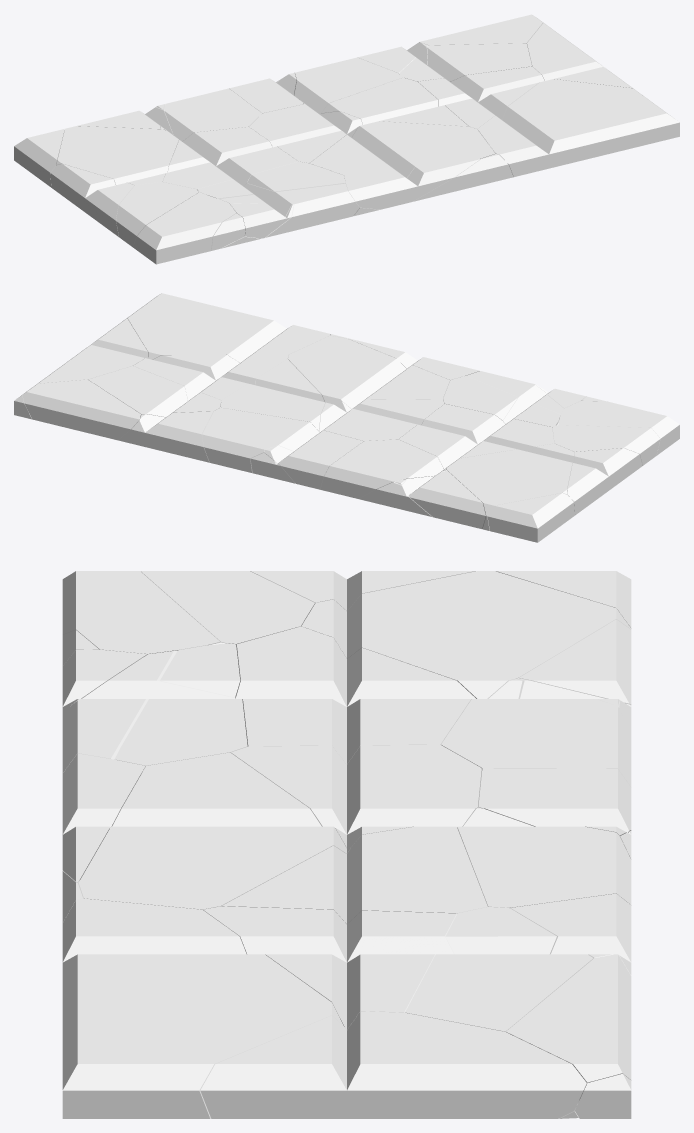
File: chocolate_broken_S.fbx
The picture shows the model from 3 angles, top to bottom: view 1: azimuth 30°, elevation 25°; view 2: azimuth 150°, elevation 25°; view 3: azimuth 270°, elevation 25°; orthographic projection. The views are drawn at different scales.
Parts seen in each view (by area): view 1: chocolate_cell.012, chocolate_cell.018, chocolate_cell.043, chocolate_cell.033, chocolate_cell.025, chocolate_cell.024, chocolate_cell.020, chocolate_cell.041, chocolate_cell.031, chocolate_cell.039, chocolate_cell.037, chocolate_cell.016 (+14 smaller); view 2: chocolate_cell.012, chocolate_cell.018, chocolate_cell.043, chocolate_cell.033, chocolate_cell.026, chocolate_cell.016, chocolate_cell.028, chocolate_cell.024, chocolate_cell.041, chocolate_cell.020, chocolate_cell.039, chocolate_cell.044 (+14 smaller); view 3: chocolate_cell.012, chocolate_cell.044, chocolate_cell.018, chocolate_cell.043, chocolate_cell.033, chocolate_cell.024, chocolate_cell.041, chocolate_cell.020, chocolate_cell.039, chocolate_cell.016, chocolate_cell.028, chocolate_cell.026 (+14 smaller).
Boxes of the visible parts, <box> form: chocolate_cell.012: <box>477,79,679,176</box>; chocolate_cell.018: <box>309,121,495,177</box>; chocolate_cell.043: <box>56,126,179,185</box>; chocolate_cell.033: <box>162,127,298,189</box>; chocolate_cell.025: <box>133,193,235,264</box>; chocolate_cell.024: <box>418,66,544,128</box>; chocolate_cell.020: <box>321,77,468,126</box>; chocolate_cell.041: <box>249,104,362,163</box>; chocolate_cell.031: <box>217,181,359,237</box>; chocolate_cell.039: <box>399,43,532,81</box>; chocolate_cell.037: <box>344,158,480,209</box>; chocolate_cell.016: <box>294,57,402,114</box>; chocolate_cell.012: <box>123,293,329,362</box>; chocolate_cell.018: <box>288,335,449,409</box>; chocolate_cell.043: <box>446,443,575,530</box>; chocolate_cell.033: <box>398,404,554,469</box>; chocolate_cell.026: <box>22,379,140,440</box>; chocolate_cell.016: <box>202,407,323,473</box>; chocolate_cell.028: <box>320,439,446,498</box>; chocolate_cell.024: <box>133,354,288,403</box>; chocolate_cell.041: <box>319,399,444,441</box>; chocolate_cell.020: <box>220,359,325,431</box>; chocolate_cell.039: <box>88,366,220,417</box>; chocolate_cell.044: <box>31,318,147,388</box>; chocolate_cell.012: <box>62,898,343,1118</box>; chocolate_cell.044: <box>200,1011,586,1118</box>; chocolate_cell.018: <box>78,752,350,909</box>; chocolate_cell.043: <box>301,571,631,698</box>; chocolate_cell.033: <box>235,626,475,764</box>; chocolate_cell.024: <box>203,906,456,1029</box>; chocolate_cell.041: <box>231,744,481,848</box>; chocolate_cell.020: <box>222,826,487,923</box>; chocolate_cell.039: <box>405,907,593,1031</box>; chocolate_cell.016: <box>457,807,631,907</box>; chocolate_cell.028: <box>441,679,631,787</box>; chocolate_cell.026: <box>506,954,631,1100</box>.
Size of the model in its own units: 425 by 17.76 by 200.
